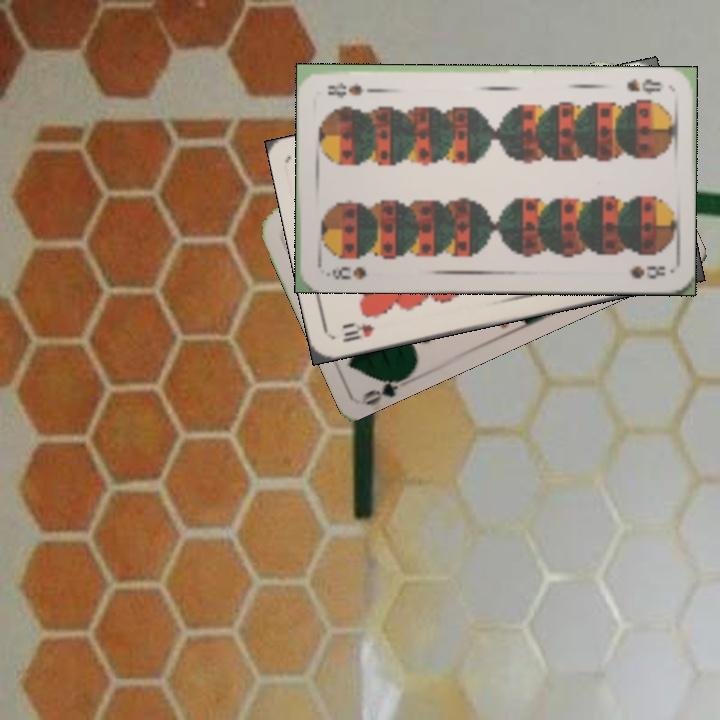GO: (359, 368, 414, 406)
H10: (338, 318, 377, 345)
S8: (622, 74, 666, 96), (322, 262, 369, 282)
